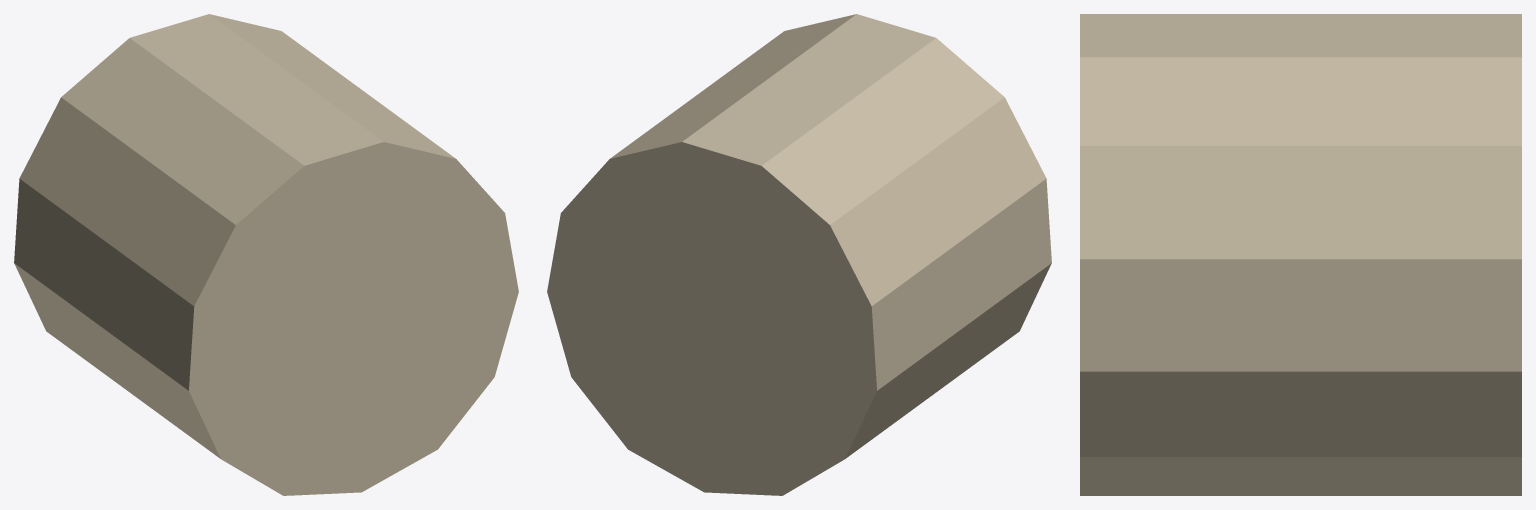
File: dessert.glb
3 views of the same model, side by side, from view 1: azimuth 30°, elevation 25°; view 2: azimuth 150°, elevation 25°; view 3: azimuth 270°, elevation 25° (orthographic). The views are drawn at different scales.
Visible parts, largest first — view 1: geometry_0; view 2: geometry_0; view 3: geometry_0.
Part boxes in pixels (x1,y1,x2,y2): geometry_0: [14, 14, 518, 495]; geometry_0: [547, 14, 1051, 495]; geometry_0: [1080, 14, 1521, 495].
Bounding box in the file's own units: 0.0654 × 0.0653 × 0.06.
